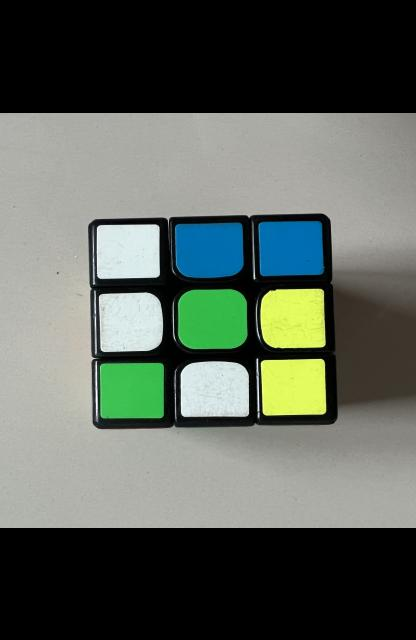Blue: (176, 221, 243, 277), (258, 220, 324, 276)
Green: (178, 289, 248, 348), (99, 362, 164, 418)
White: (180, 360, 249, 416), (98, 292, 163, 351), (97, 224, 160, 278)
Yellow: (260, 288, 326, 347), (260, 358, 327, 415)
